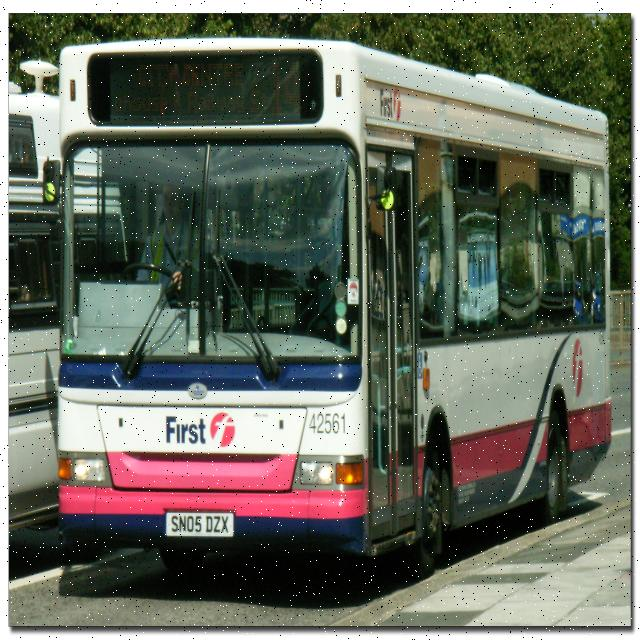Bus: (52, 38, 612, 568), (12, 56, 118, 514)
